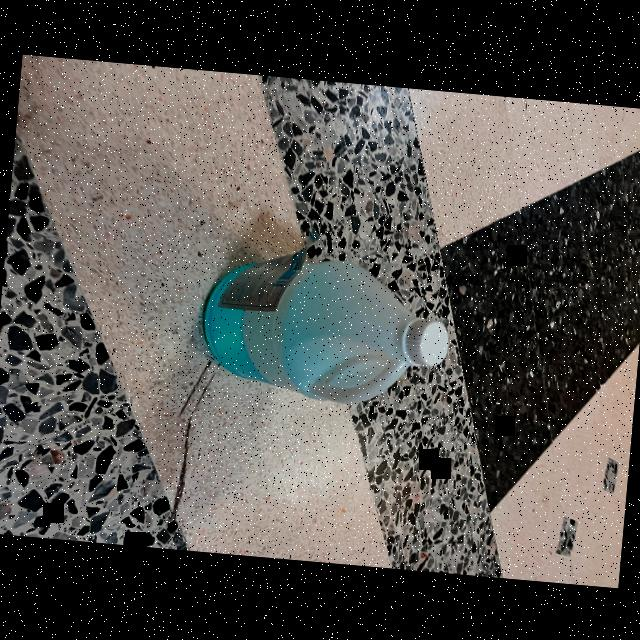chemical_plastic_gallon: (182, 228, 481, 424)
